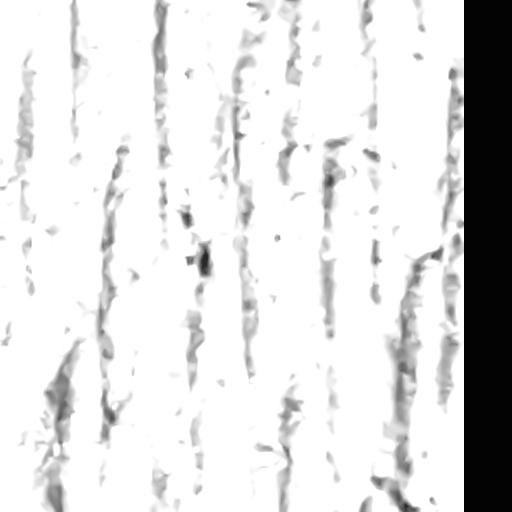egg: (185, 243, 210, 275)
